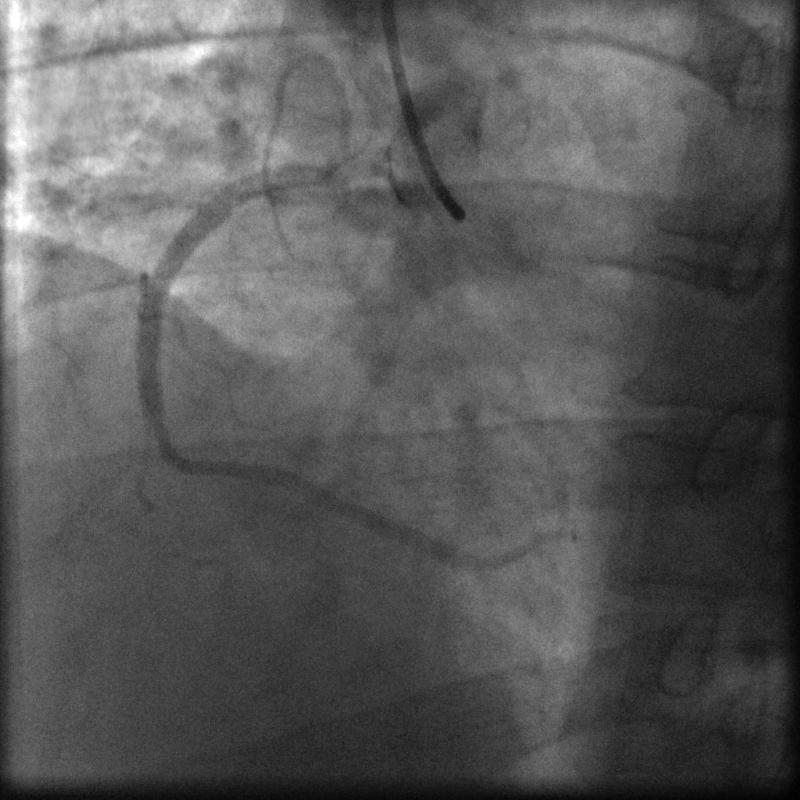Stenosis: (137, 392, 169, 450)
